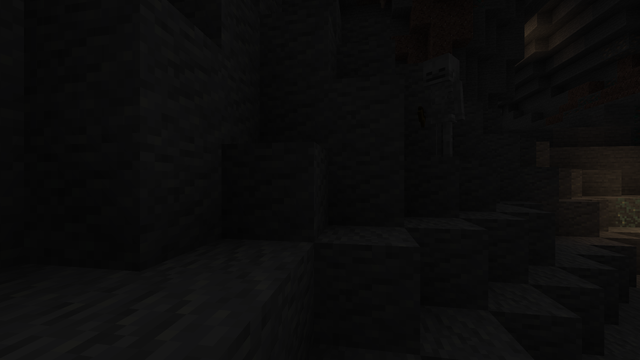squelettes: (423, 53, 462, 159)
